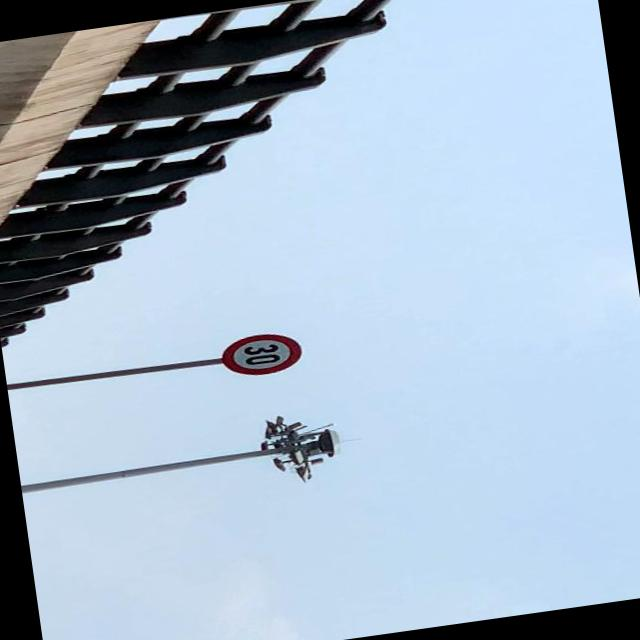P-127: (217, 329, 306, 380)
